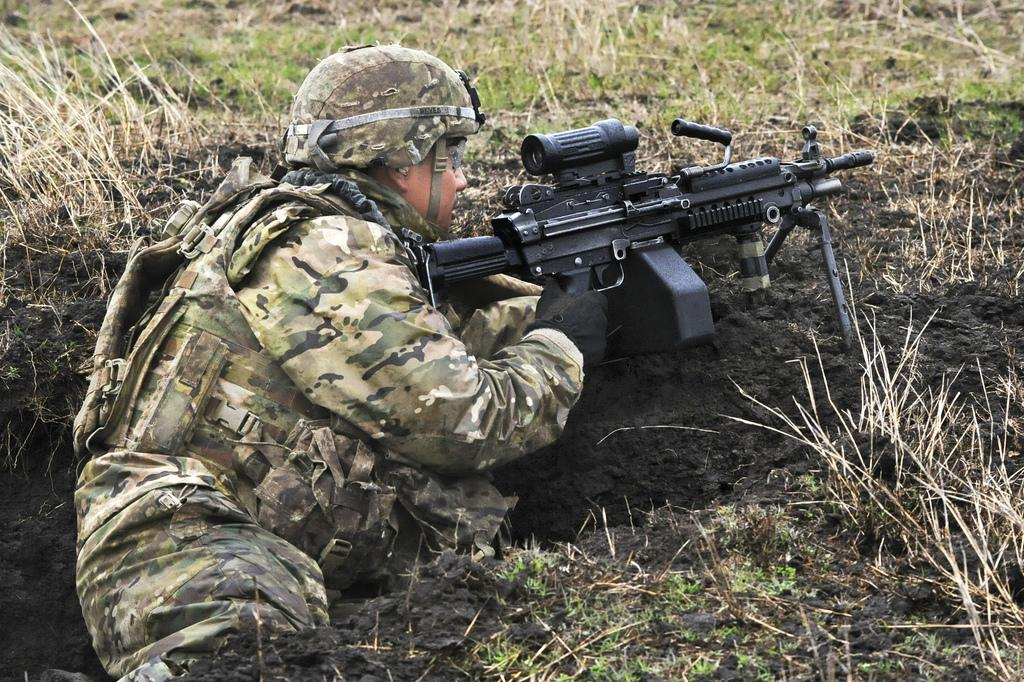Rifle: (417, 116, 870, 350)
